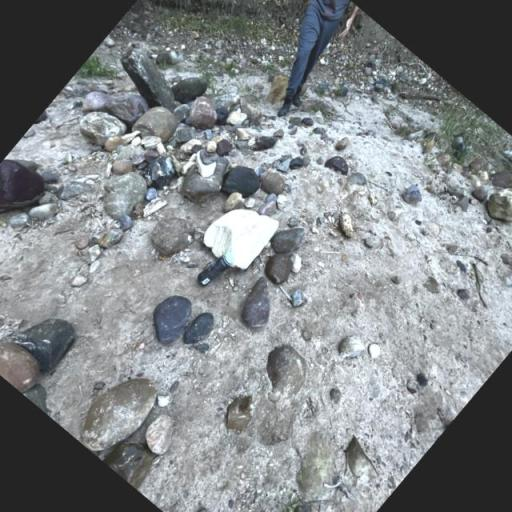bottle: (194, 242, 240, 292)
